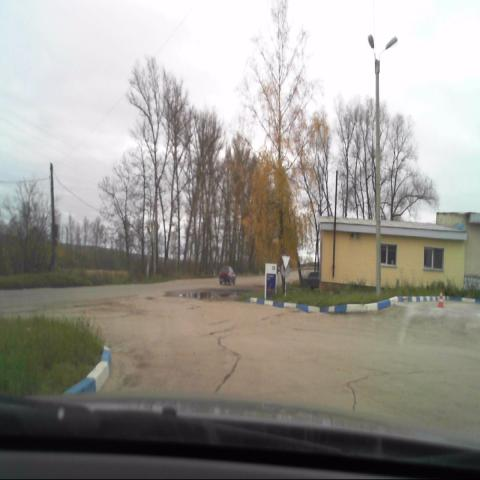2_4: (282, 253, 290, 270)
